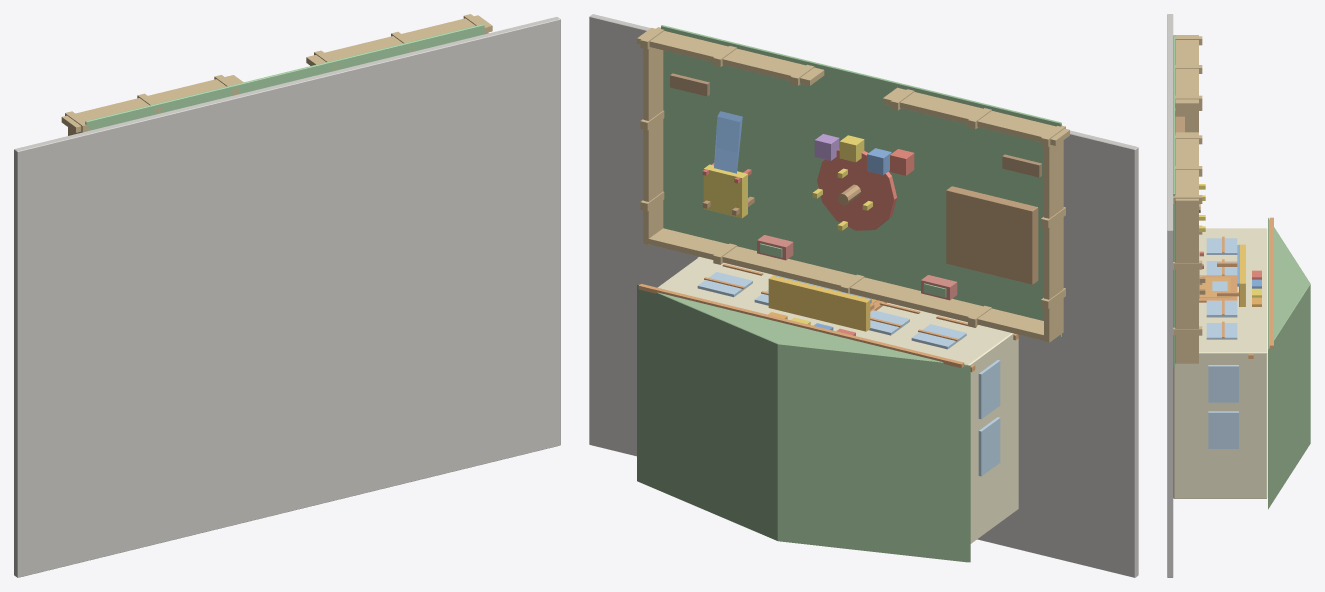
File: kindergarden.fbx
3 views of the same model, side by side, from view 1: azimuth 30°, elevation 25°; view 2: azimuth 150°, elevation 25°; view 3: azimuth 270°, elevation 25° (orthographic). The views are drawn at different scales.
Visible parts, largest first — view 1: GroundBase, PlayYard_Mat, Fence_Front_Left, Fence_Front_Right; view 2: Roof_Green, GroundBase, PlayYard_Mat, MainBuilding, Fence_Back, Sandbox, MerryGoRound_Base, Fence_Right, Fence_Left, EntranceAwning, Fence_Front_Right, Fence_Front_Left (+7 smaller); view 3: MainBuilding, Roof_Green, GroundBase, Fence_Right, Fence_Front_Right, Fence_Front_Left, SideWindow_R_01, SideWindow_R_02, PlayYard_Mat, Roof_Trim_Front, FrontWindows_03, FrontWindows_01 (+8 smaller).
Part boxes in pixels (x1,y1,x2,y2): GroundBase: (14, 17, 560, 577); PlayYard_Mat: (85, 24, 484, 130); Fence_Front_Left: (61, 75, 243, 132); Fence_Front_Right: (306, 15, 492, 65); Roof_Green: (637, 284, 970, 562); GroundBase: (589, 14, 1138, 577); PlayYard_Mat: (661, 25, 1061, 337); MainBuilding: (658, 257, 1018, 543); Fence_Back: (643, 228, 1063, 341); Sandbox: (946, 186, 1038, 284); MerryGoRound_Base: (817, 148, 897, 230); Fence_Right: (643, 47, 663, 244); Fence_Left: (1044, 140, 1063, 342); EntranceAwning: (768, 275, 870, 331); Fence_Front_Right: (637, 27, 824, 85); Fence_Front_Left: (883, 87, 1069, 145); MainBuilding: (1173, 228, 1267, 498); Roof_Green: (1268, 218, 1310, 509); GroundBase: (1167, 14, 1173, 577); Fence_Right: (1175, 205, 1198, 363); Fence_Front_Right: (1175, 132, 1198, 205); Fence_Front_Left: (1175, 35, 1198, 107); SideWindow_R_01: (1208, 411, 1238, 448); SideWindow_R_02: (1208, 365, 1238, 402); PlayYard_Mat: (1173, 35, 1175, 367); Roof_Trim_Front: (1269, 217, 1273, 348); FrontWindows_03: (1206, 300, 1237, 317); FrontWindows_01: (1206, 238, 1237, 254).
Bounding box in the file's own units: 1200 × 920 × 336.
